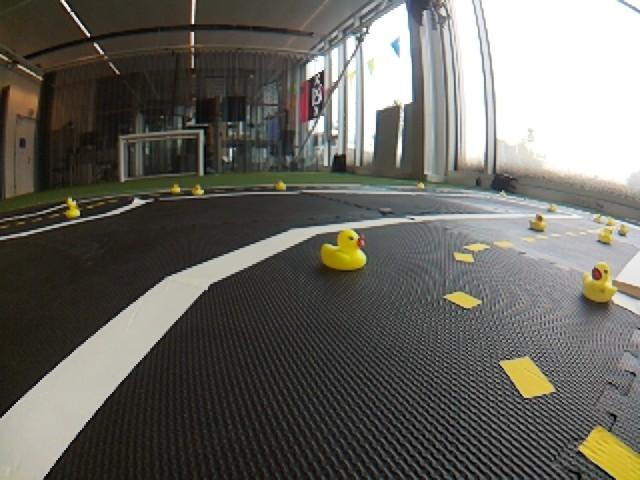Duckies: (321, 228, 366, 270), (582, 263, 617, 303), (598, 228, 616, 243), (529, 215, 548, 229), (65, 204, 80, 217), (191, 184, 204, 195), (618, 224, 631, 234), (65, 198, 77, 208), (170, 184, 181, 193), (275, 181, 285, 189), (606, 219, 617, 226), (549, 204, 559, 211), (594, 216, 604, 223), (498, 191, 506, 198), (417, 184, 425, 189)
